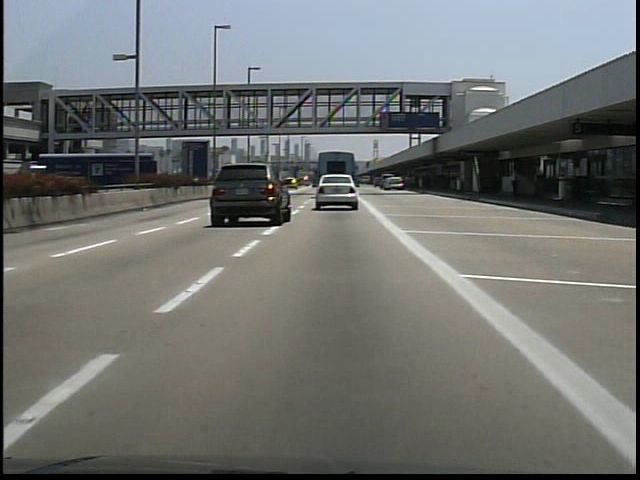person: (504, 168, 525, 205)
